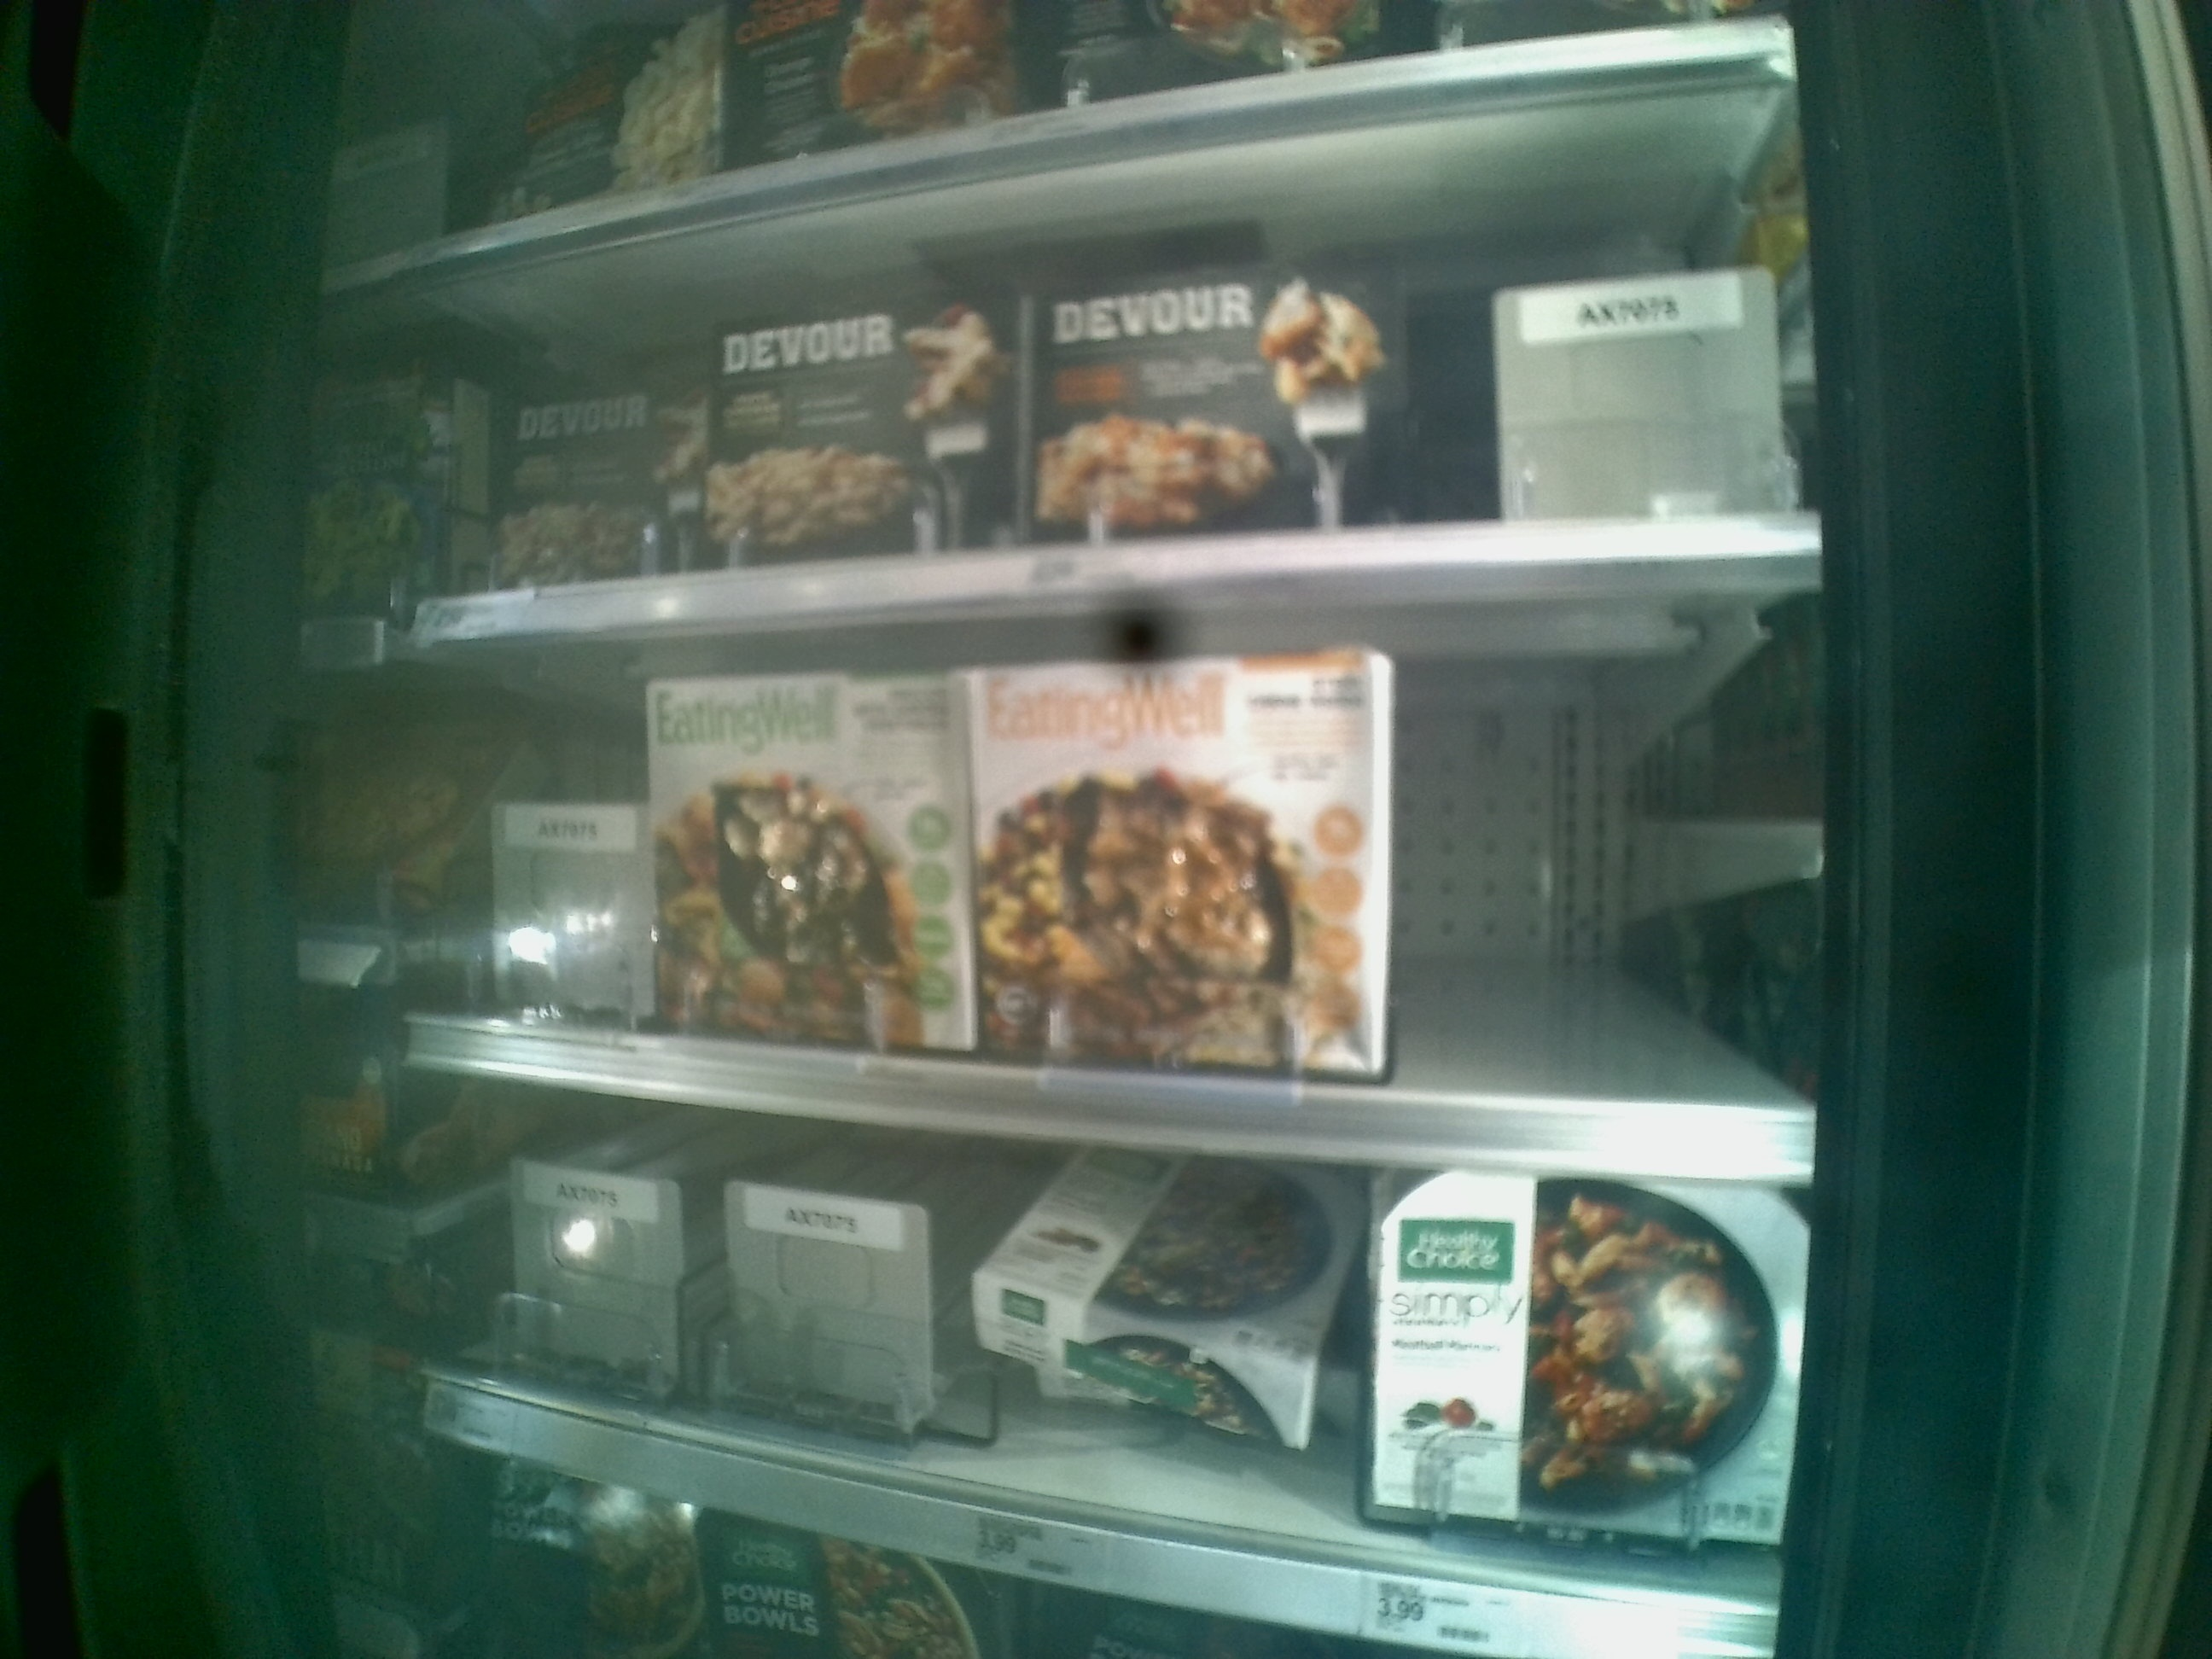shelf: (383, 575, 1817, 1175)
